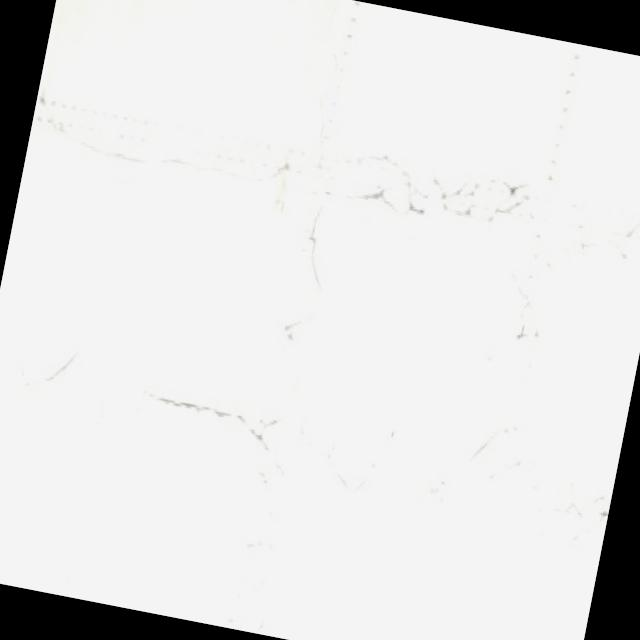crack: (314, 134, 544, 245), (132, 389, 296, 480)
